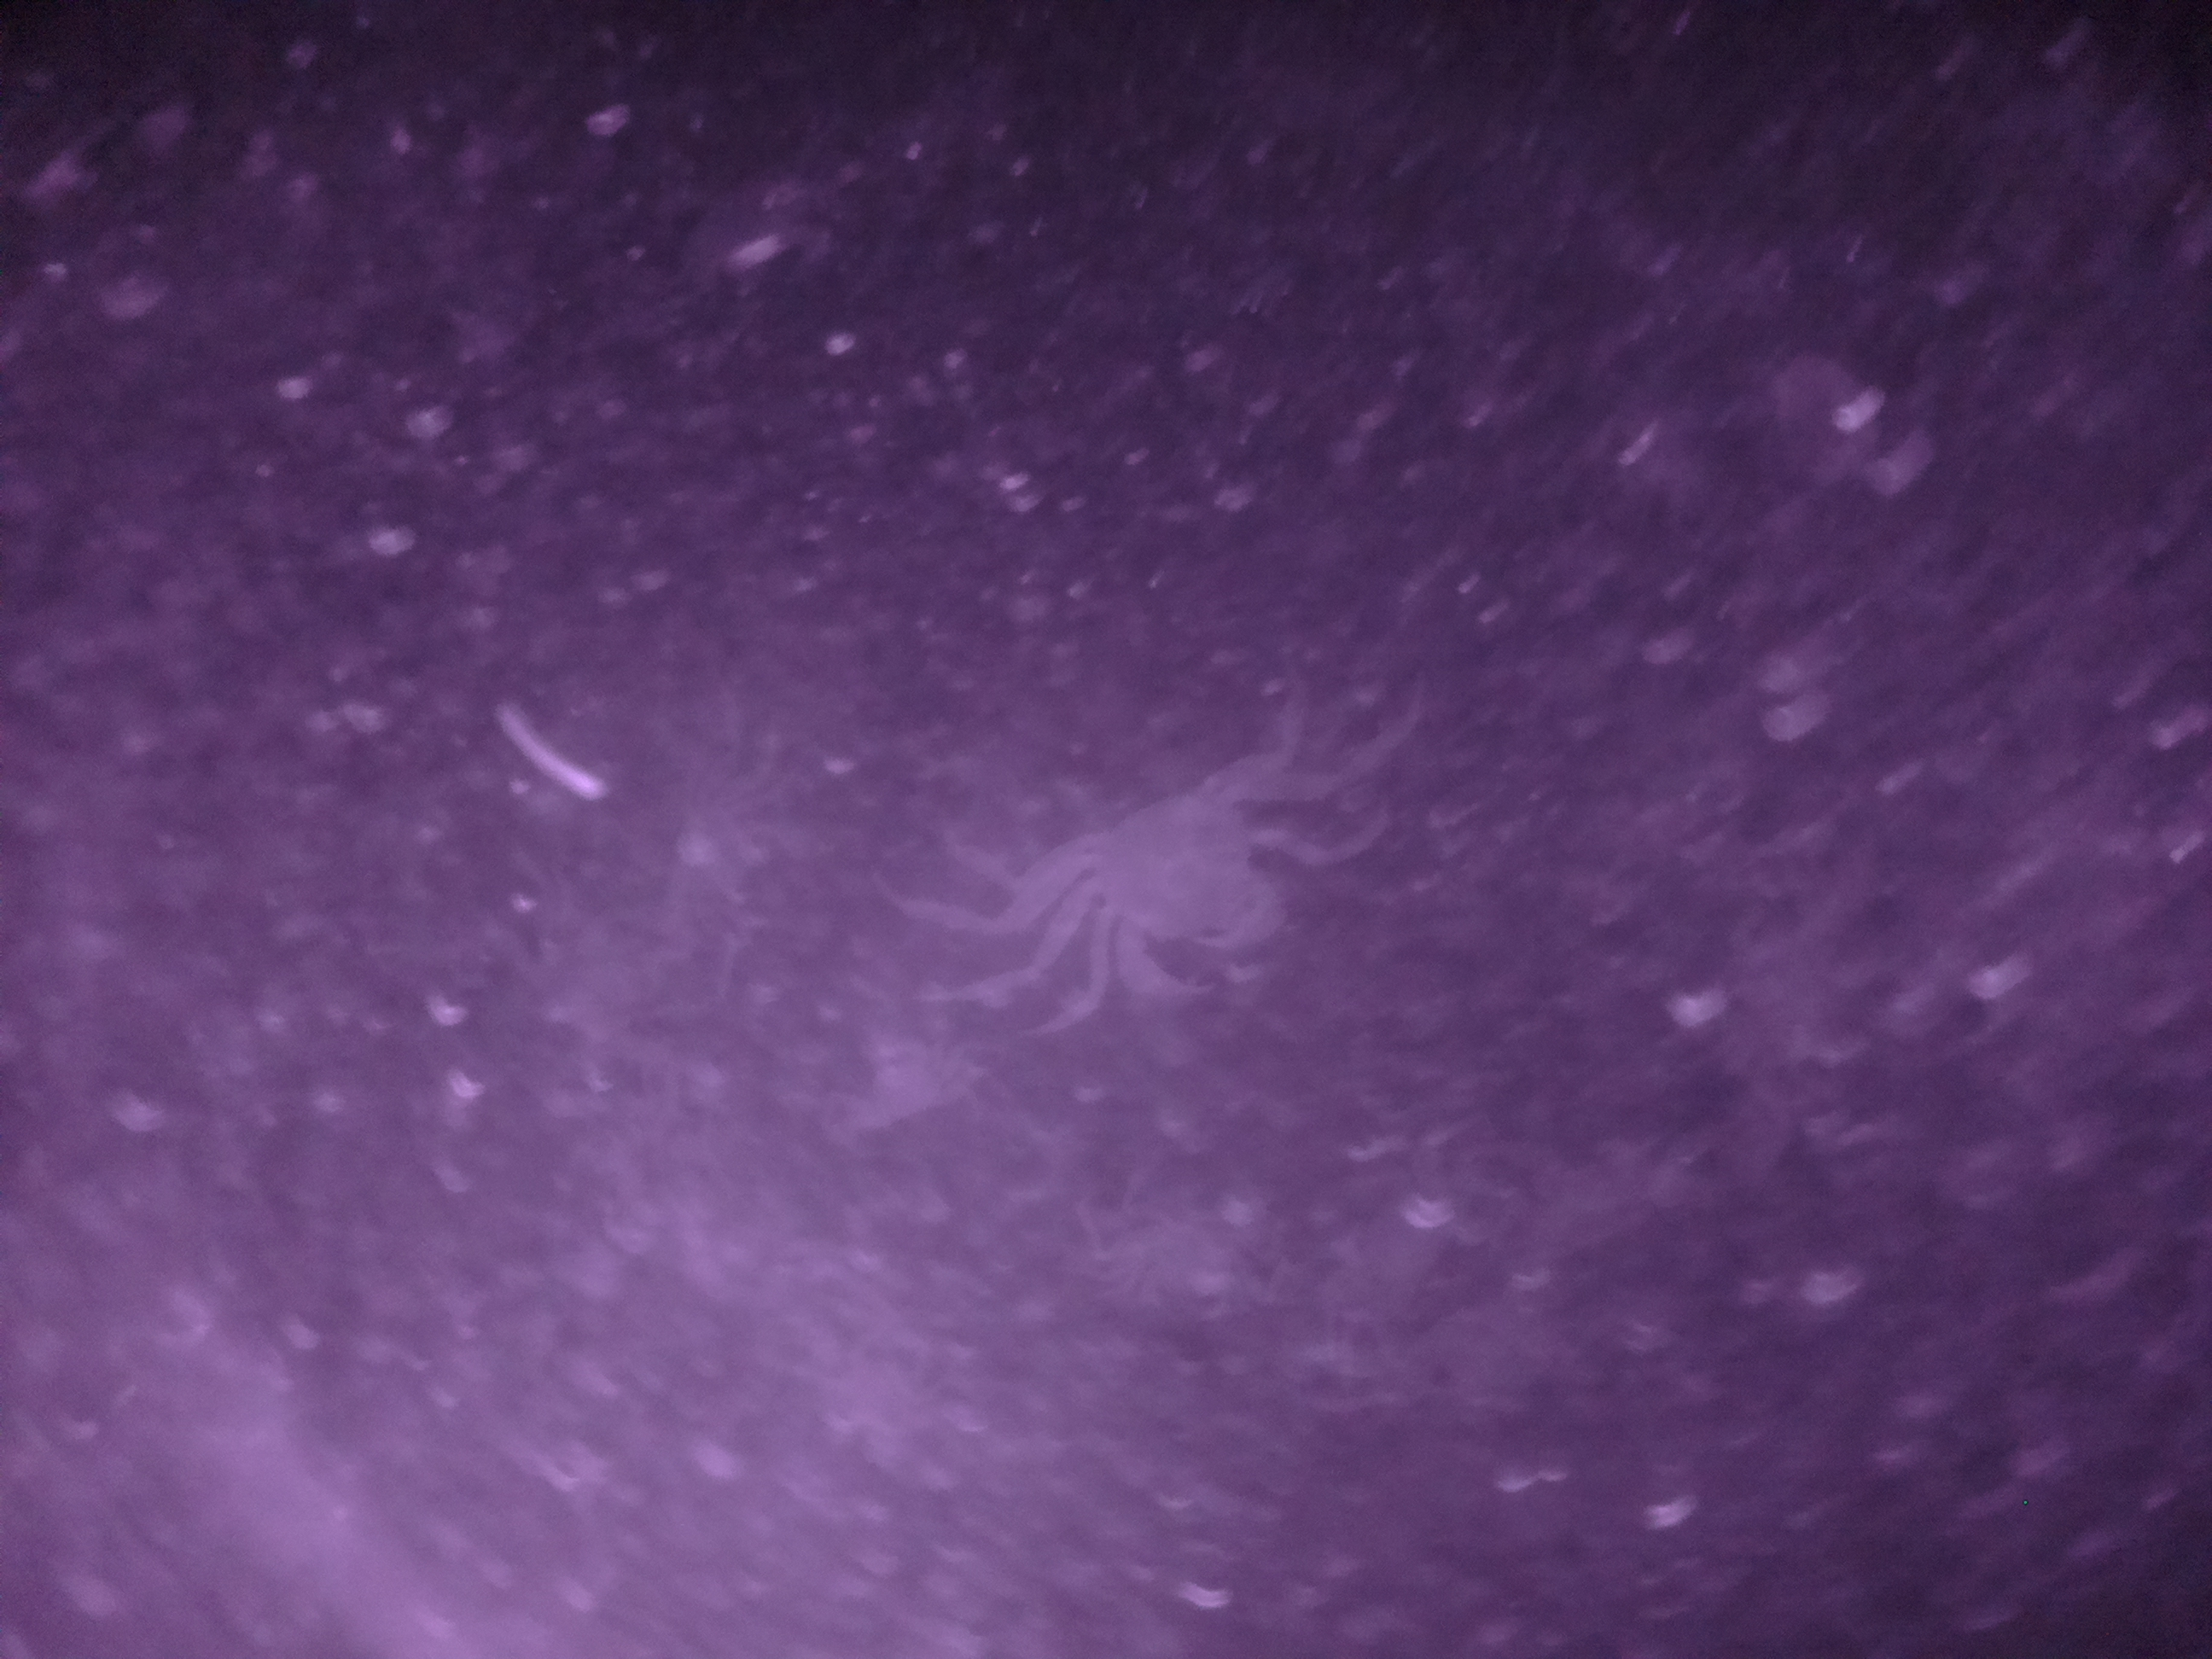Crab: (1024, 721, 1312, 1021)
